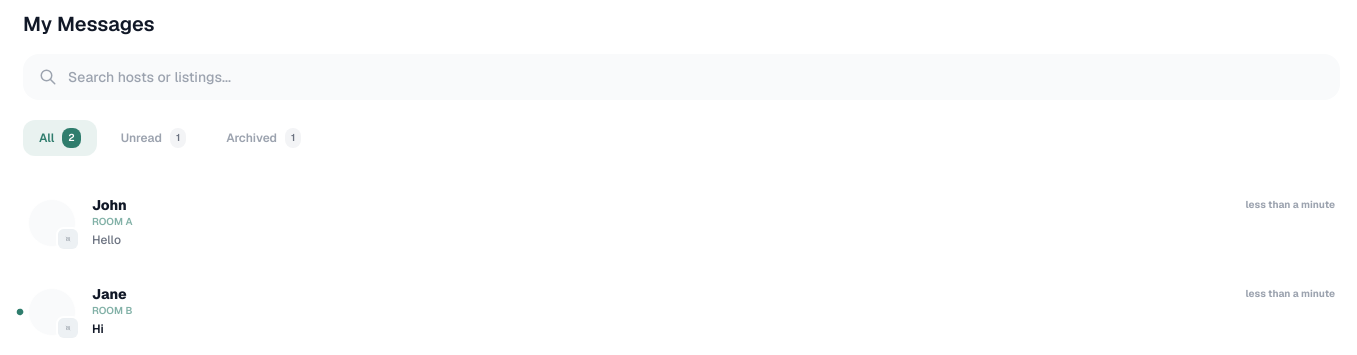
Test case: ConversationsList › filters by text search
Type "Jane" into the field with placeholder "Search hosts or listings..." at (682, 77), box [23,54,1340,100]
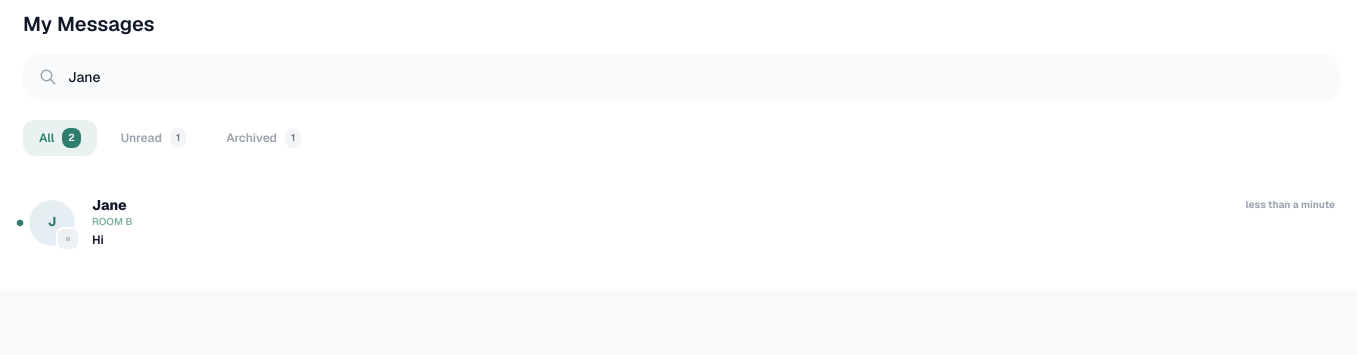
Expected: the heading "Jane" is shown, [92,198,127,212]
Result: the button "John" is gone
